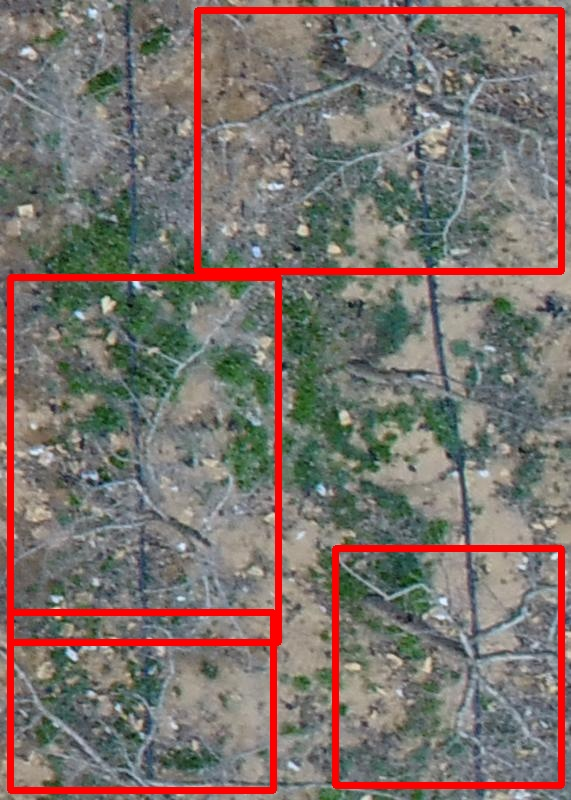apple: (10, 277, 278, 642), (197, 10, 561, 271), (335, 548, 561, 785), (10, 612, 273, 790)
